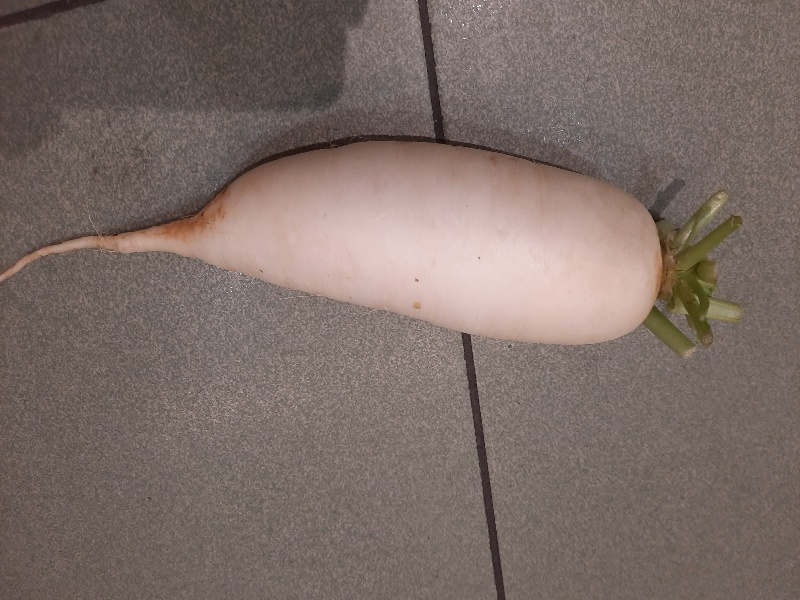vege: (46, 128, 750, 368)
